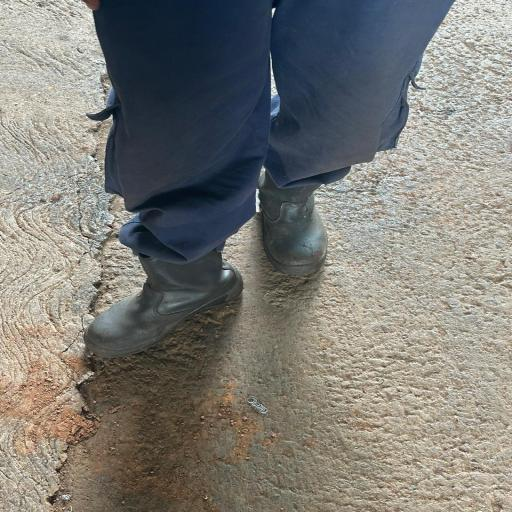safety_shoe: (62, 237, 252, 359), (346, 276, 346, 277)
